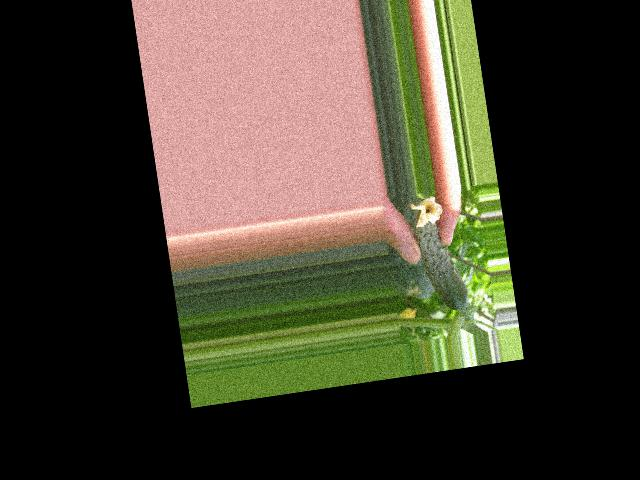cucumber: (409, 194, 469, 315)
